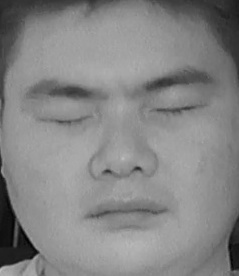blink: (155, 91, 203, 125), (44, 106, 92, 139)
mouth: (82, 190, 169, 237)
